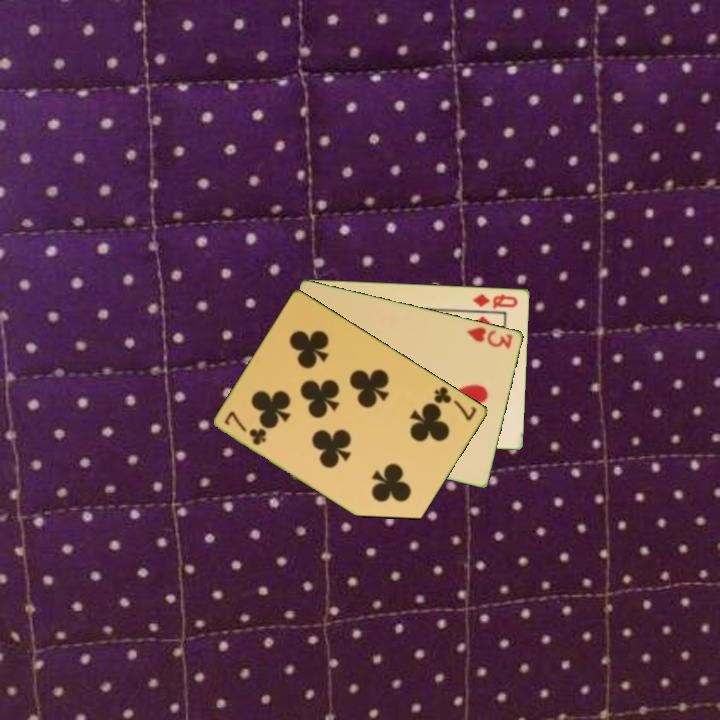3h: (463, 323, 516, 351)
7c: (431, 383, 480, 424), (221, 407, 270, 448)
Qd: (470, 290, 521, 311)
